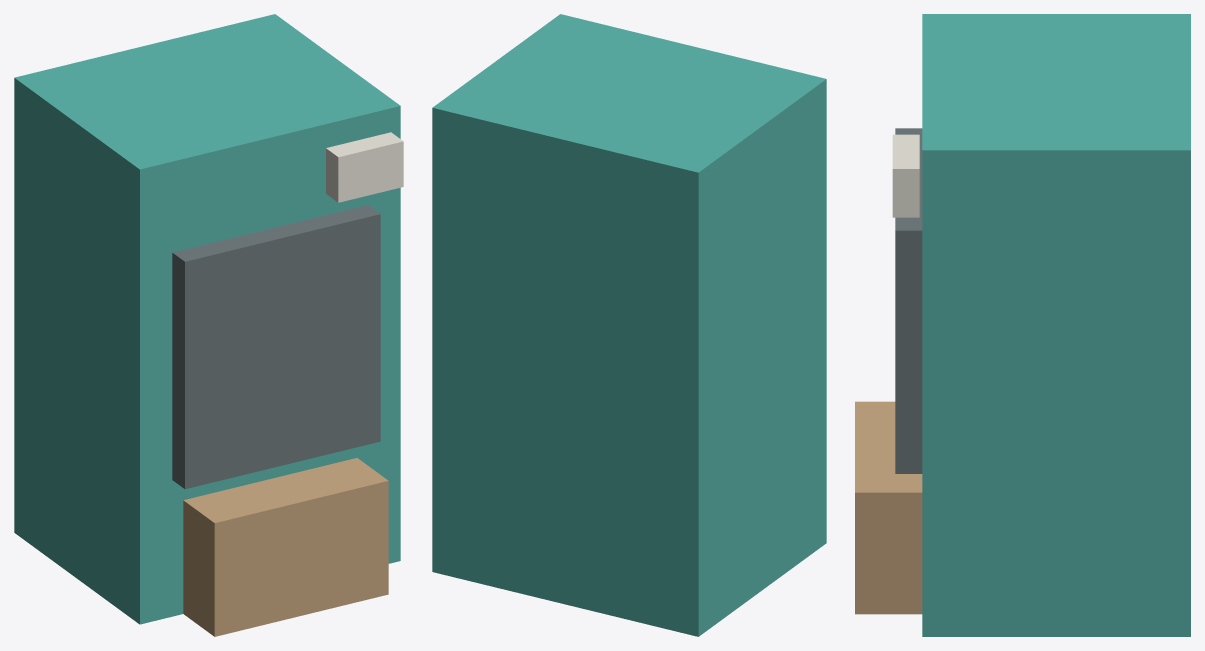
File: supermarket-operations-cardboard-baler-ae033faf__26823.glb
3 renders of one model, left to right at view 1: azimuth 30°, elevation 25°; view 2: azimuth 150°, elevation 25°; view 3: azimuth 270°, elevation 25°, orthographic. The views are drawn at different scales.
Visible parts, largest first — view 1: cardboard-baler; view 2: cardboard-baler; view 3: cardboard-baler.
Boxes of the visible parts, <box> form: cardboard-baler: <box>14,14,403,636</box>; cardboard-baler: <box>432,14,826,636</box>; cardboard-baler: <box>855,14,1190,636</box>.
Size of the model in its own units: 1.2 by 2 by 1.25.
